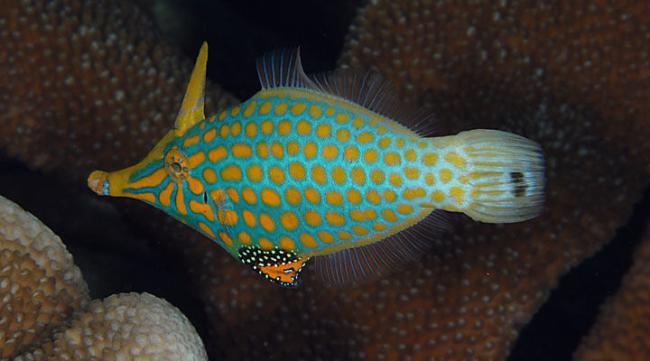fish: (88, 42, 547, 288)
